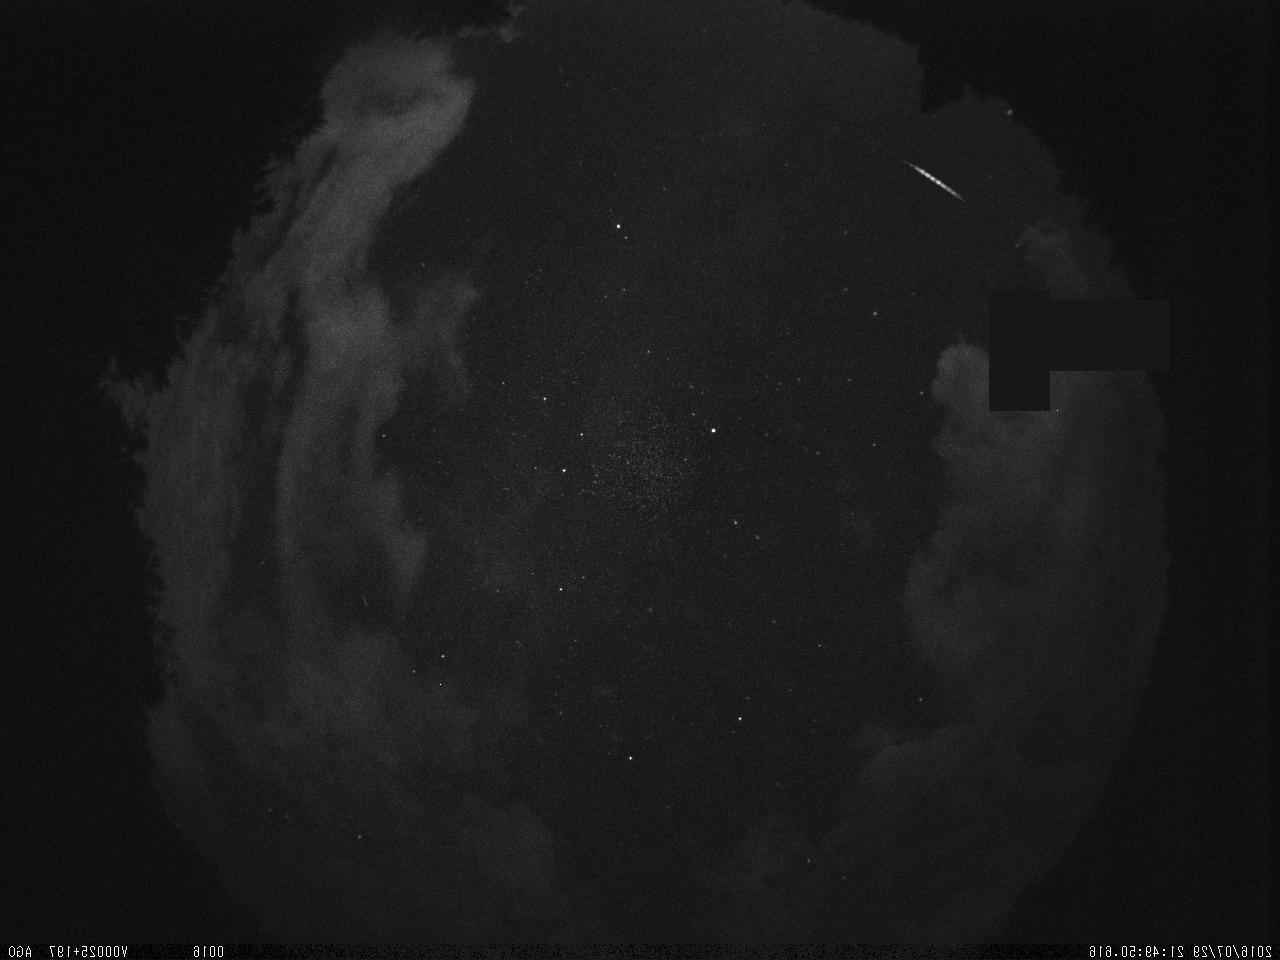meteor: (887, 154, 976, 207)
